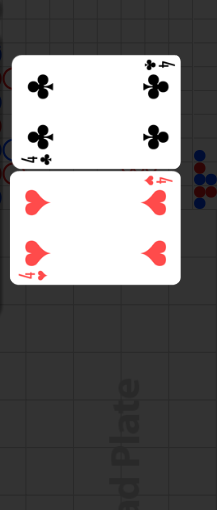4C: (20, 151, 54, 166)
4H: (18, 269, 49, 282)
